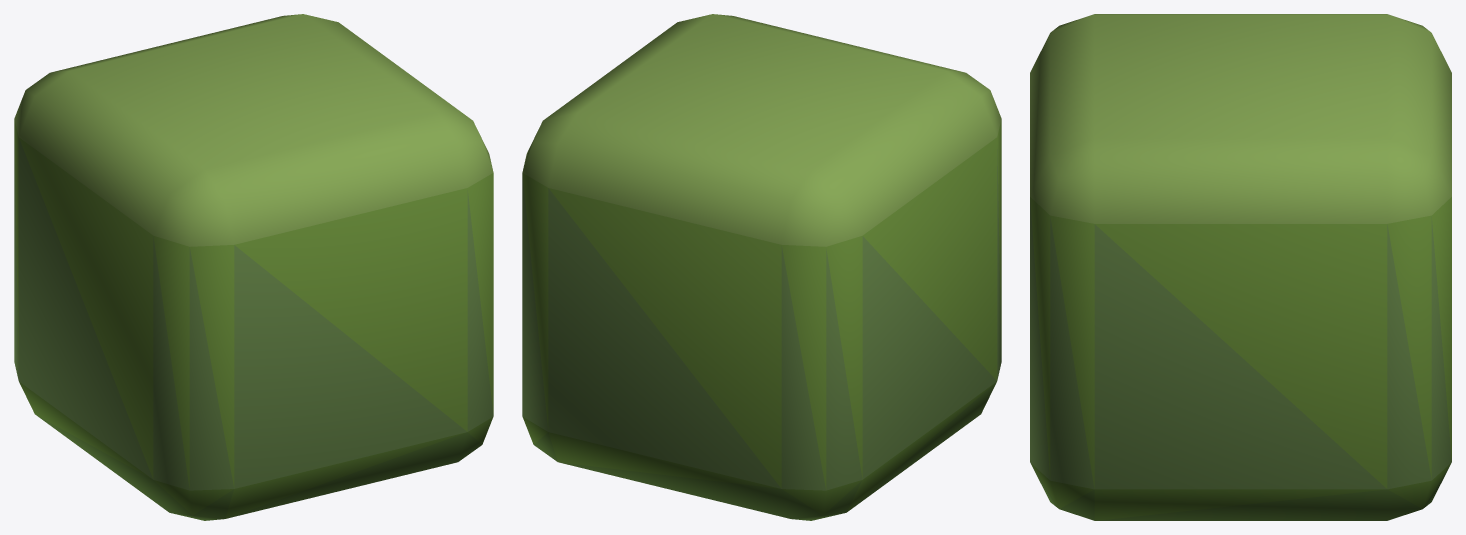
File: itch_kaykit_forest_bush_2_c_color1.glb
The picture shows the model from 3 angles, left to right: view 1: azimuth 30°, elevation 25°; view 2: azimuth 150°, elevation 25°; view 3: azimuth 270°, elevation 25°; orthographic projection. The views are drawn at different scales.
Visible parts, largest first — view 1: Bush_2_C_Color1; view 2: Bush_2_C_Color1; view 3: Bush_2_C_Color1.
Part boxes in pixels (box(x1,y1,x2,y2)): Bush_2_C_Color1: box(14, 14, 493, 520); Bush_2_C_Color1: box(522, 14, 1001, 520); Bush_2_C_Color1: box(1030, 14, 1451, 520).
Bounding box in the file's own units: 0.96 × 0.96 × 0.96.
